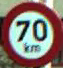Speed limit: (2, 2, 61, 62)
